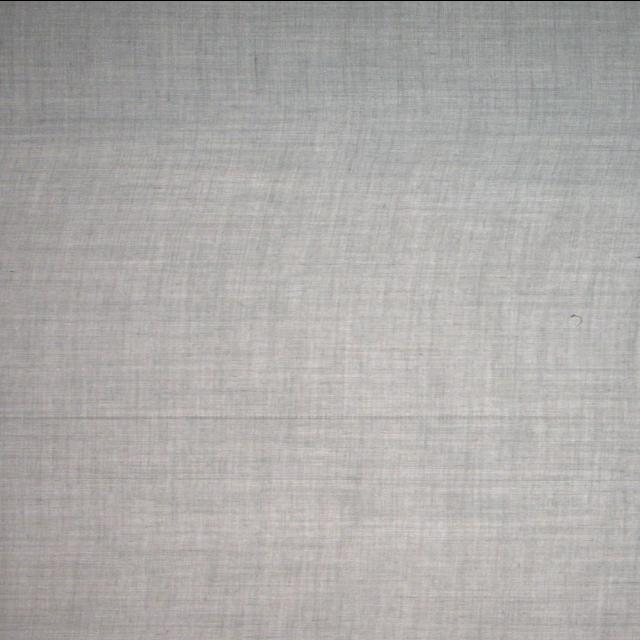dirty: (570, 312, 582, 326)
